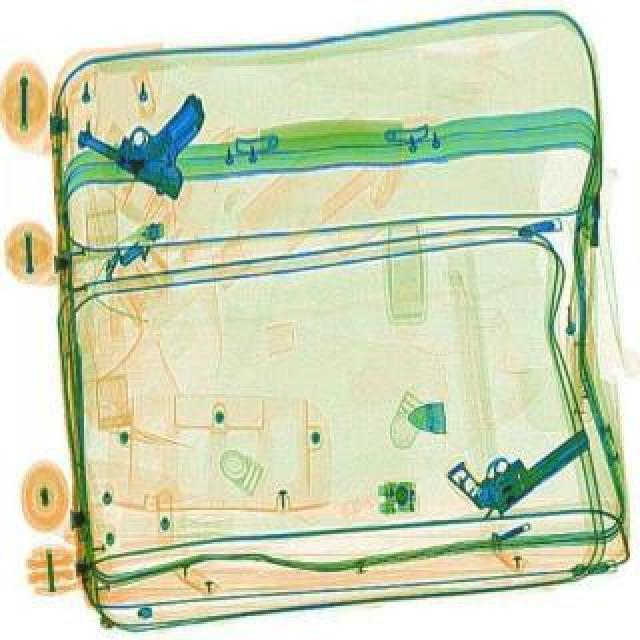gun: (68, 56, 232, 204), (444, 392, 596, 522)
